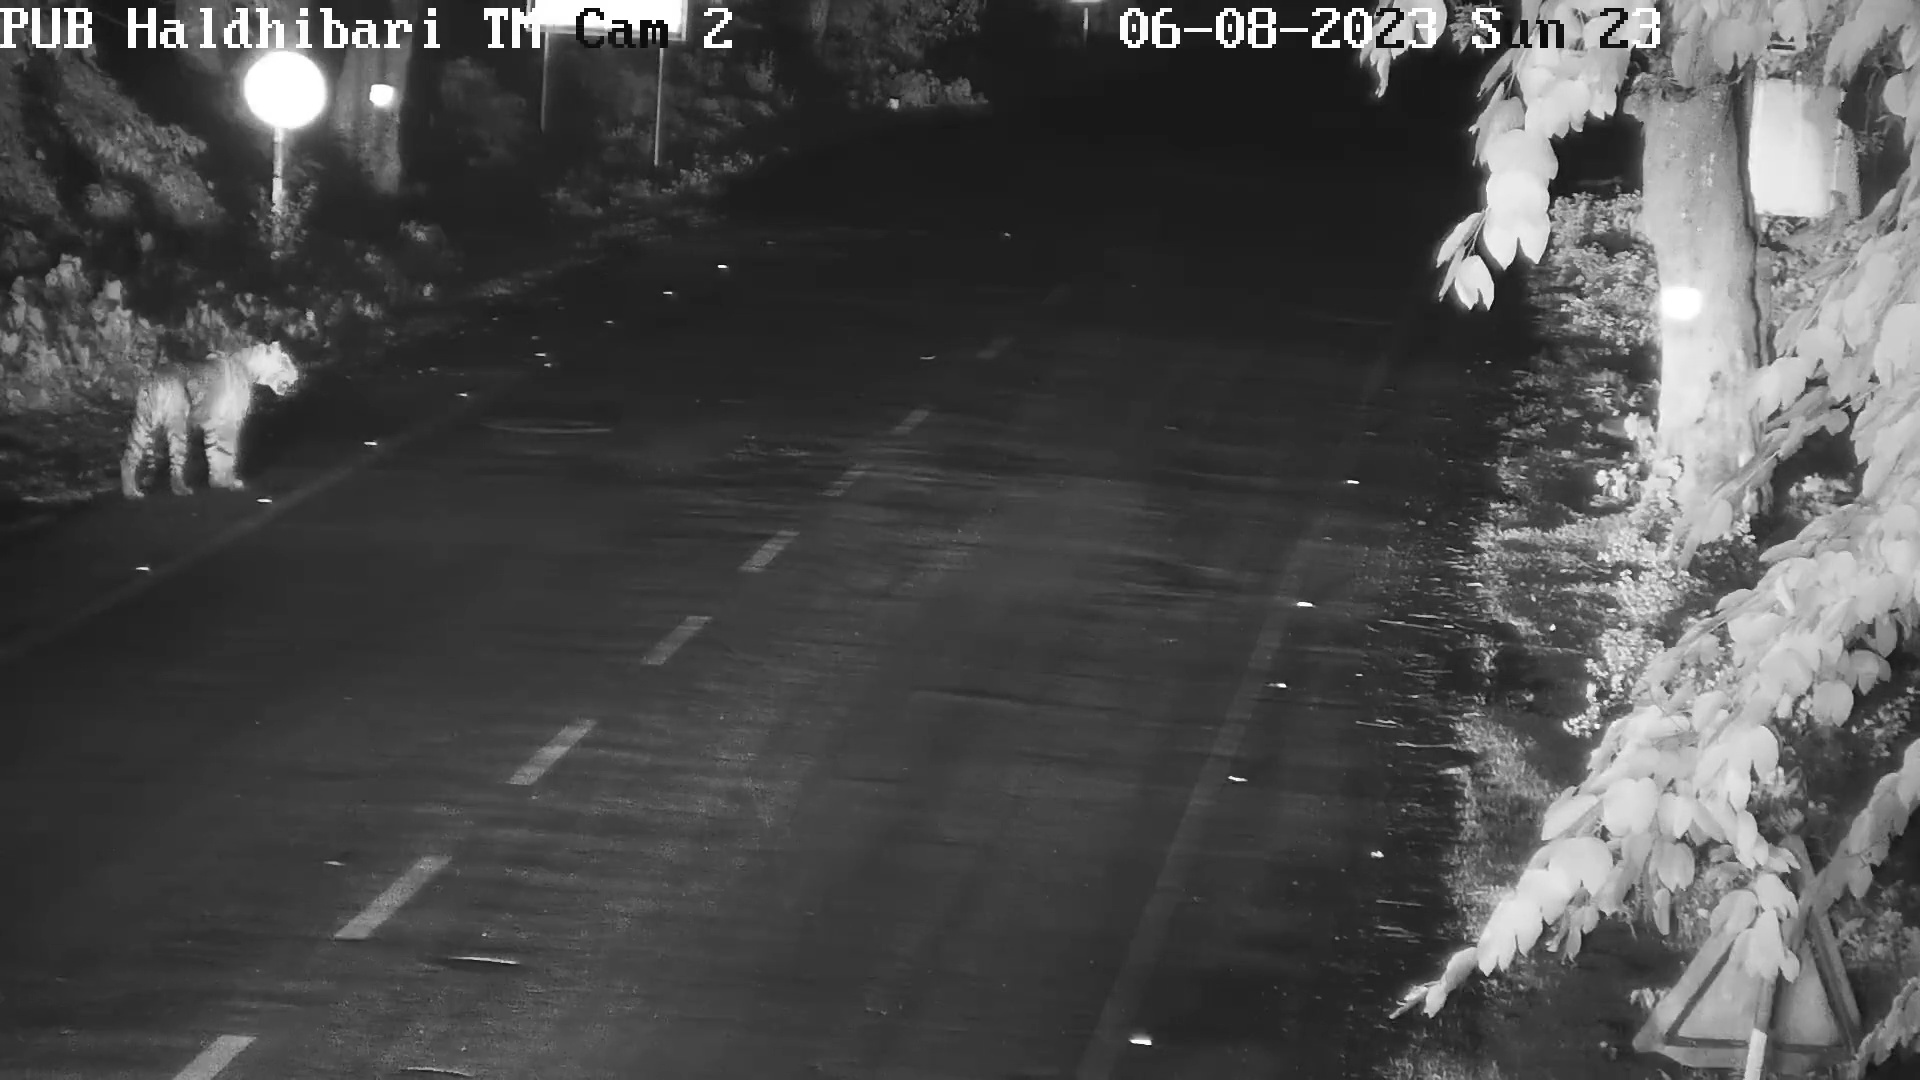tigers: (113, 342, 301, 498)
